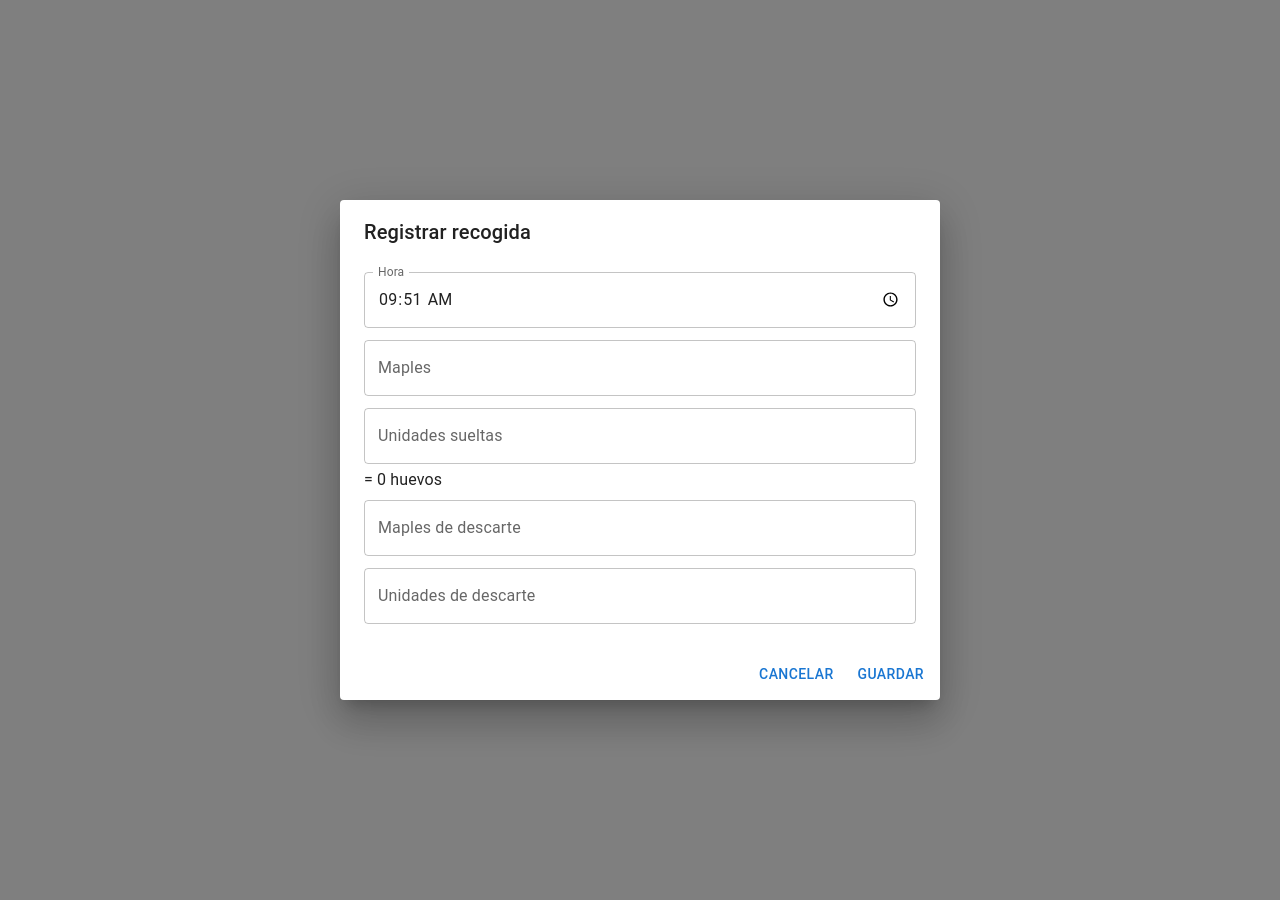
RegistrarRecogidaDialog offline › el rechazo de negocio muestra el error y mantiene el formulario abierto
The image size is (1280, 900).
Type "3" into the field labelled "Maples" at (640, 368), box x1=364 y1=340 x2=916 y2=396
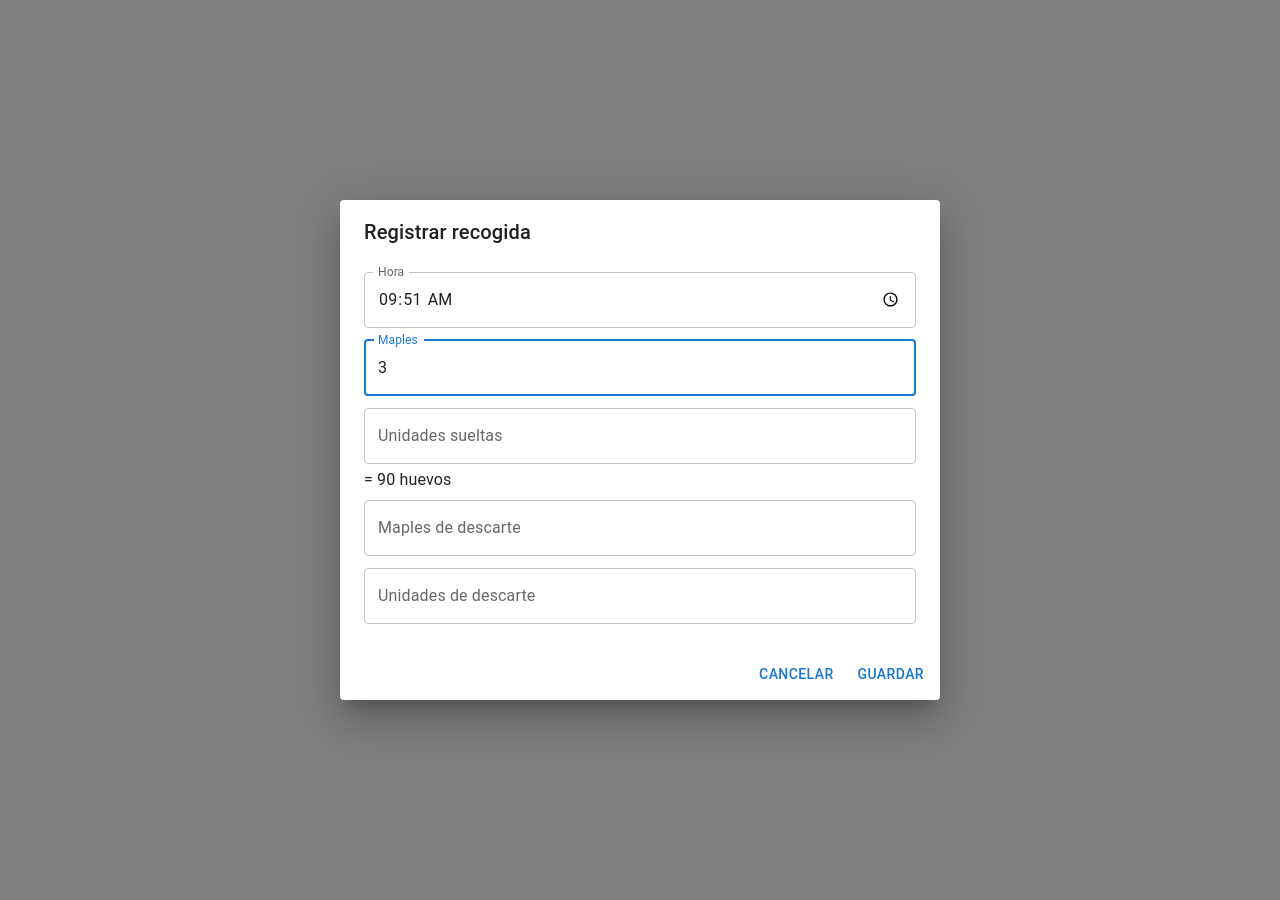
Click the button "Guardar" at (891, 674), box x1=850 y1=656 x2=932 y2=692
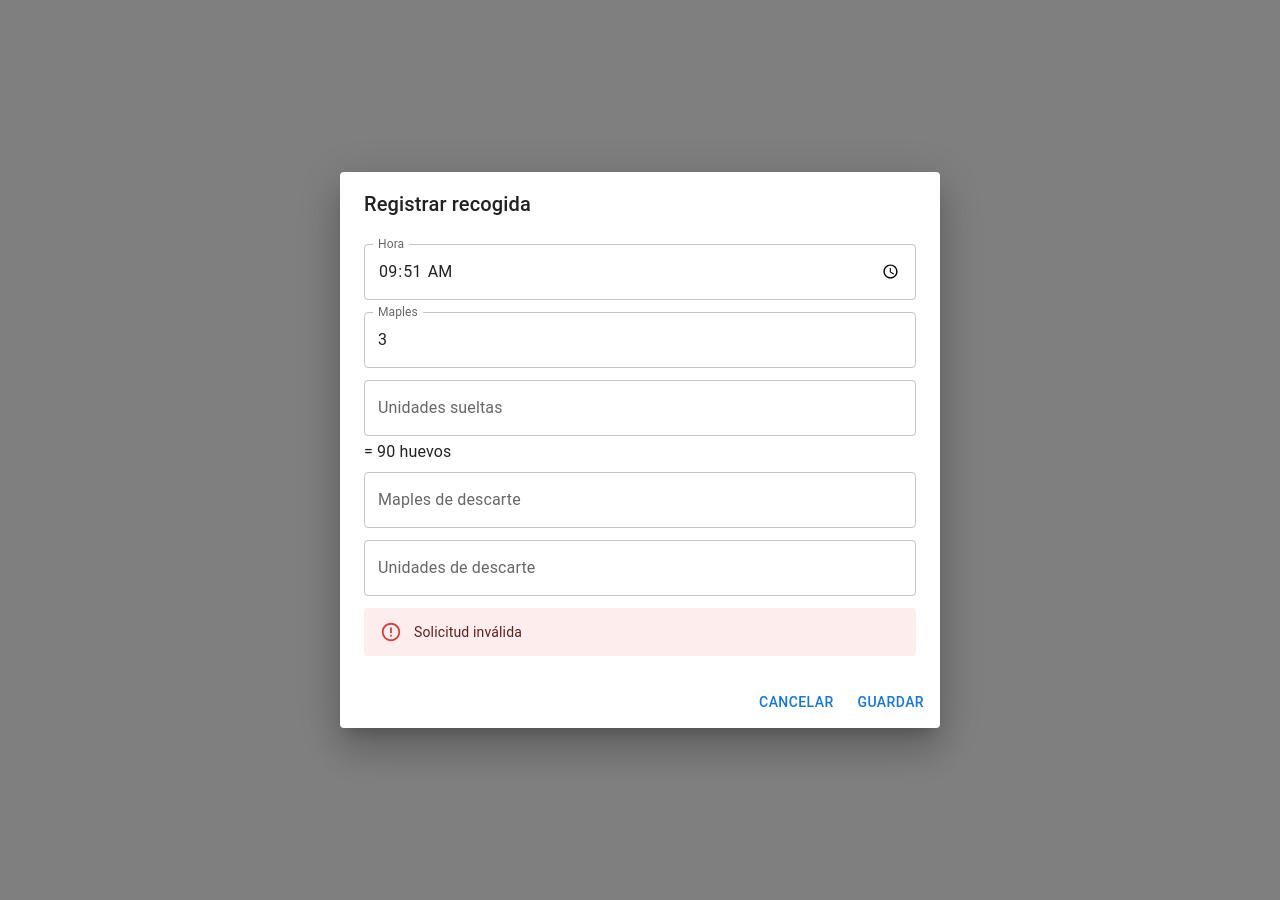
Expected: the text "Solicitud inválida" is shown, x1=414 y1=624 x2=522 y2=640
